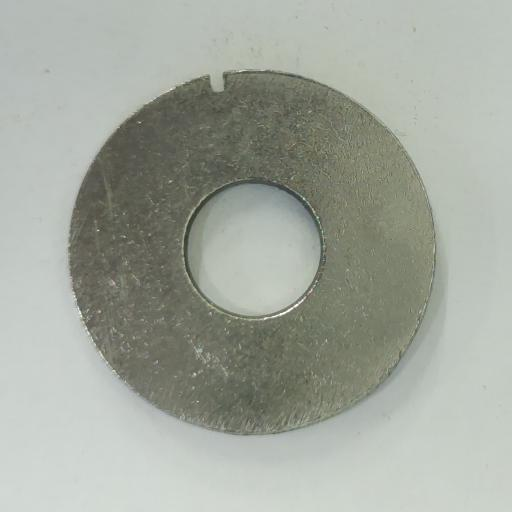burr: (202, 70, 230, 94)
